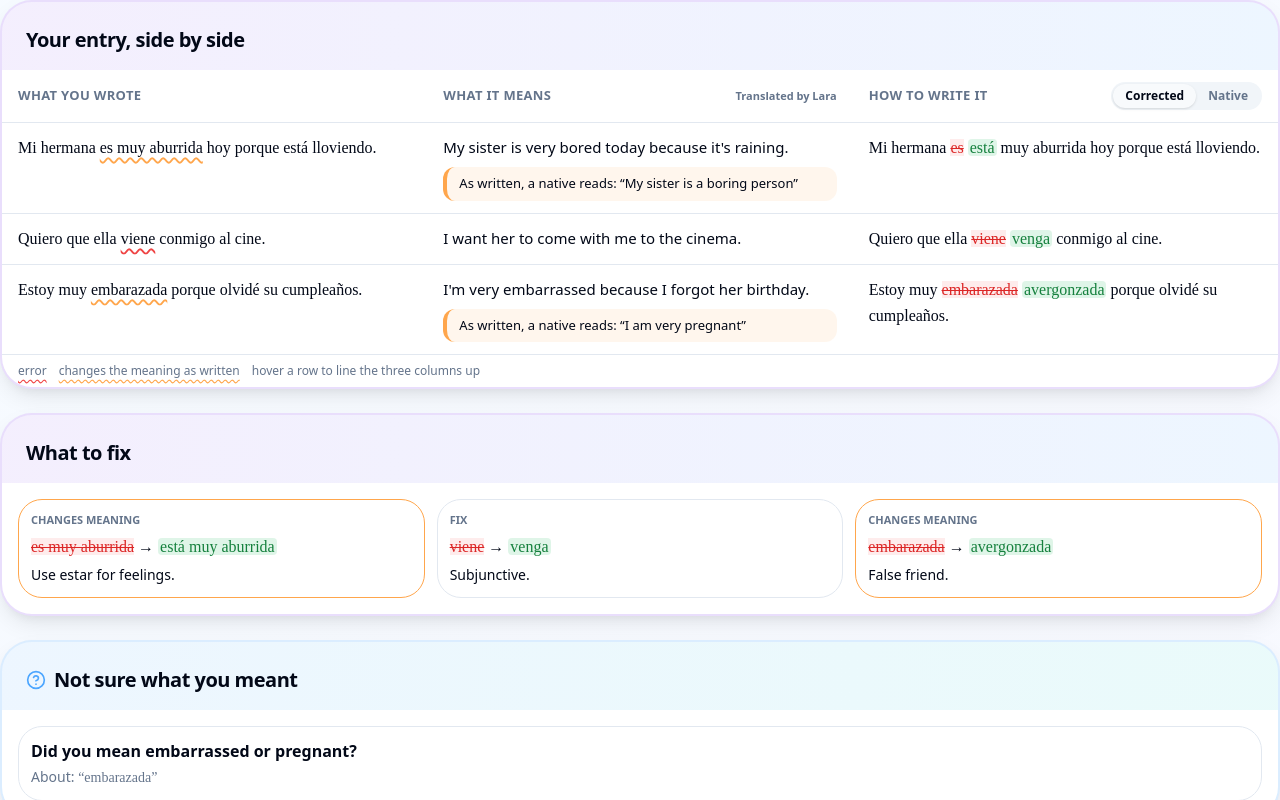
Test: level 0 (meaning open, rewrite gloss open) › shows the sentence-aligned meaning and the as-written warnings without logging
Expected: the number of elements with test id "meaning-text" is 3, x1=443 y1=137 x2=788 y2=157; x1=443 y1=228 x2=741 y2=248; x1=443 y1=278 x2=809 y2=298
Expected: the elements with test id "meaning-text" read "My sister is very bored today because it's raining.", "I want her to come with me to the cinema.", "I'm very embarrassed because I forgot her birthday.", in this order, x1=443 y1=137 x2=788 y2=157; x1=443 y1=228 x2=741 y2=248; x1=443 y1=278 x2=809 y2=298
Step 1. Click the button "Native" → (1228, 96), box x1=1196 y1=84 x2=1260 y2=108
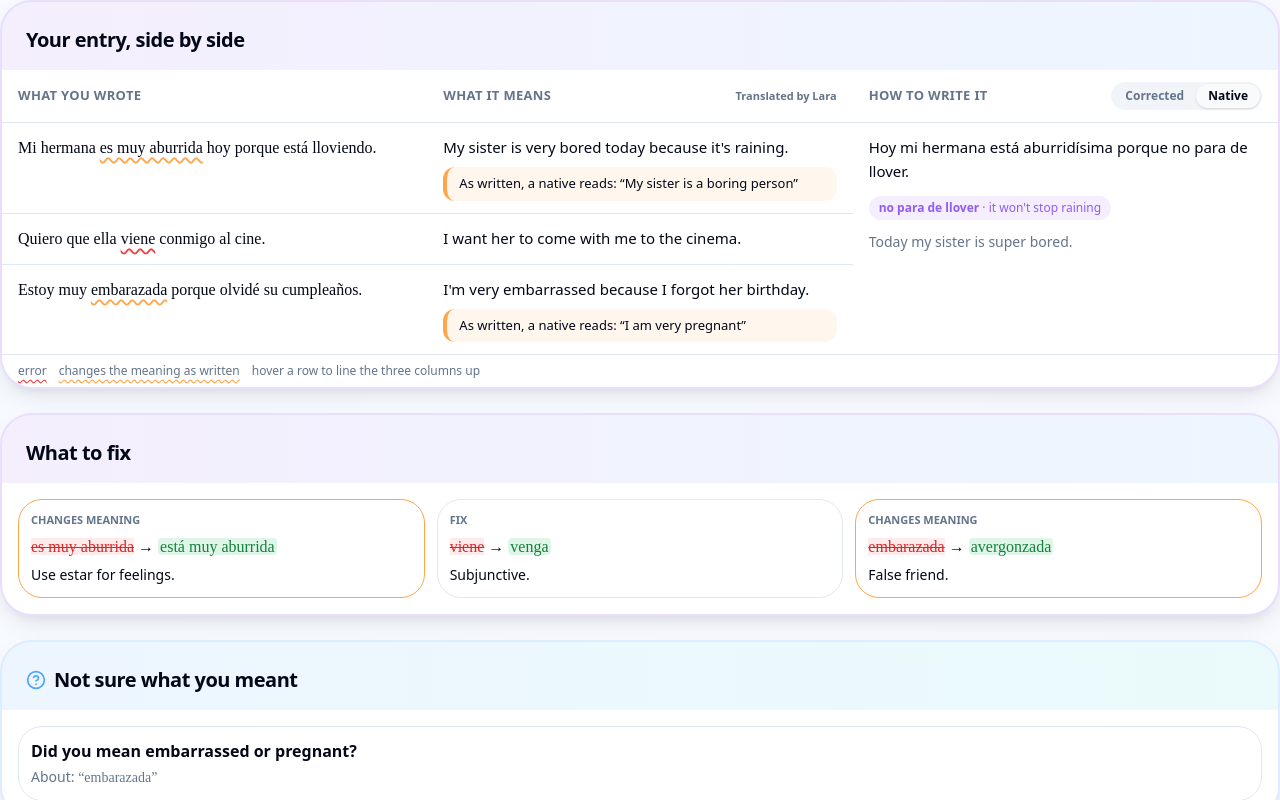
Expected: the element with test id "rewrite-gloss" reads "Today my sister is super bored.", x1=869 y1=232 x2=1073 y2=251
